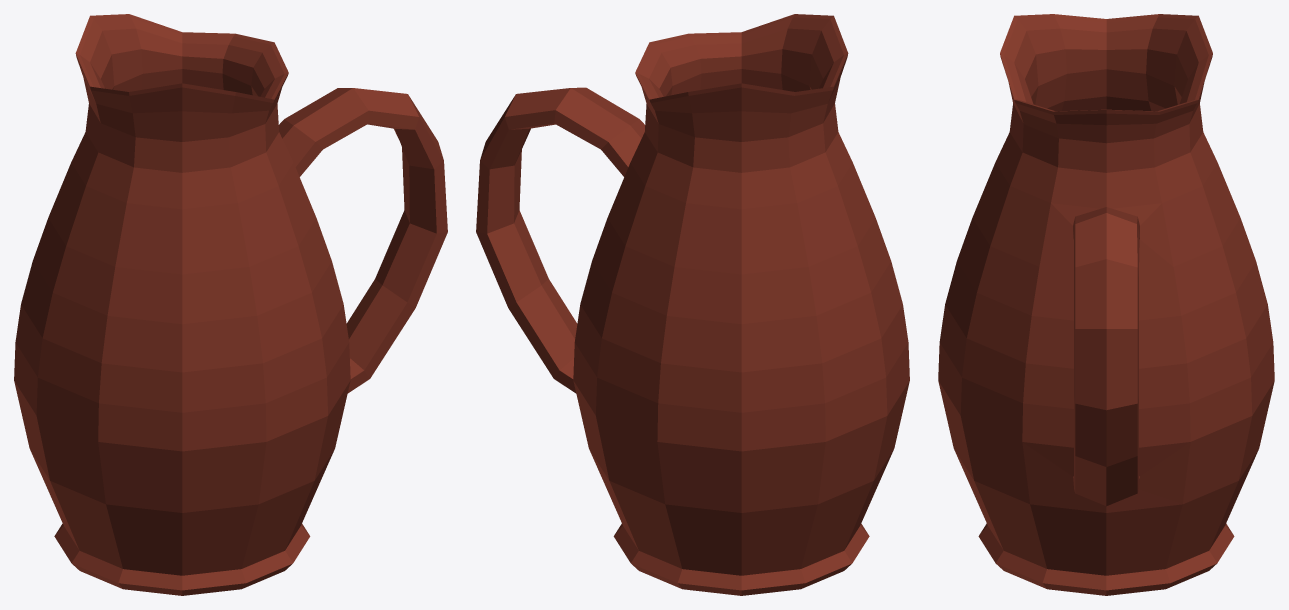
Rendered from Jug.fbx.
3 views of the same model, side by side, from view 1: azimuth 30°, elevation 25°; view 2: azimuth 150°, elevation 25°; view 3: azimuth 270°, elevation 25° (orthographic).
Visible parts, largest first — view 1: Cylinder; view 2: Cylinder; view 3: Cylinder.
Part boxes in pixels (box(x1,y1,x2,y2)): Cylinder: box(14, 14, 447, 595); Cylinder: box(476, 14, 909, 595); Cylinder: box(938, 14, 1274, 595).
Size of the model in its own units: 466 by 558 by 335.
